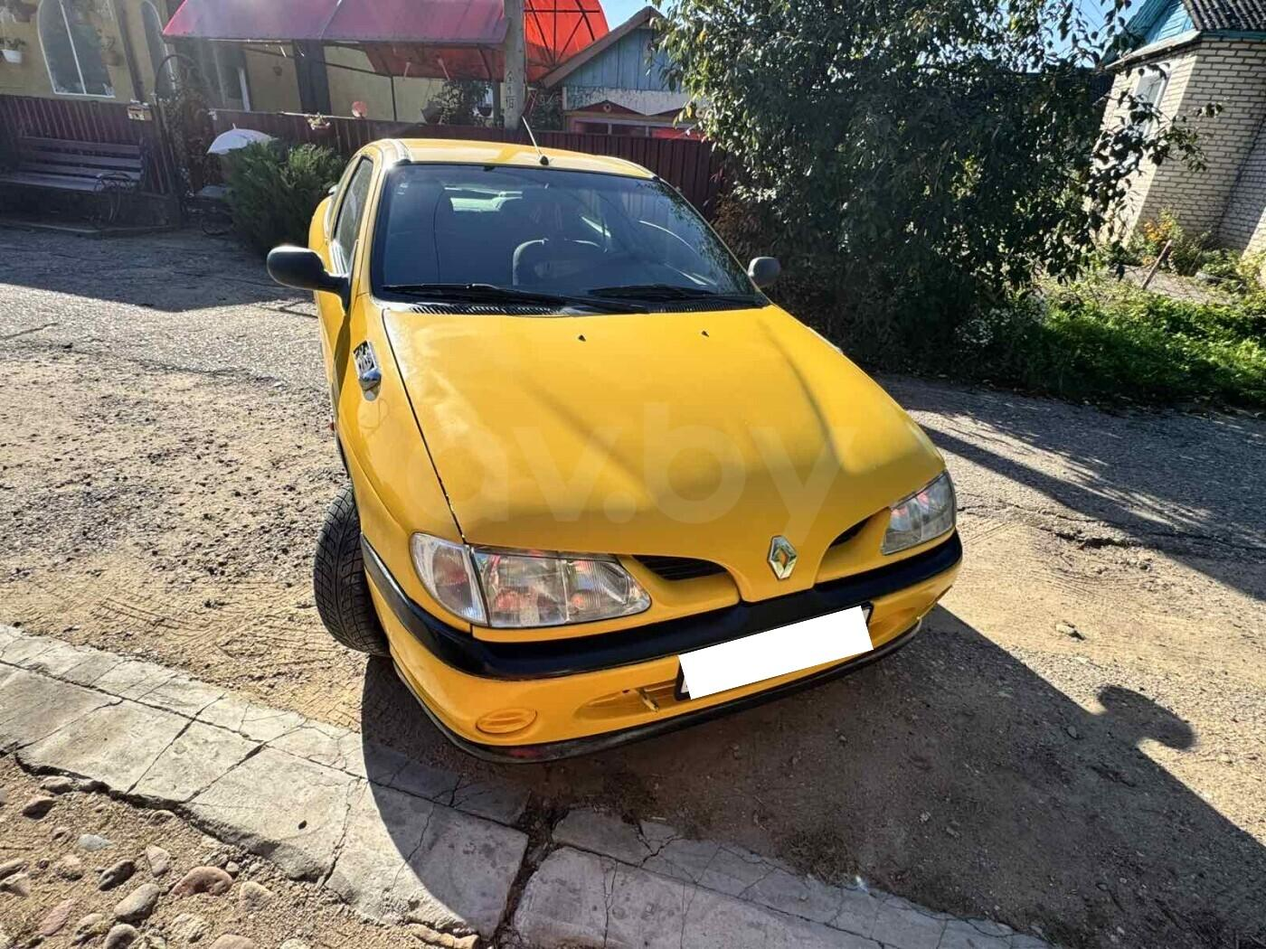Megane_1995-1999: (249, 137, 968, 763)
